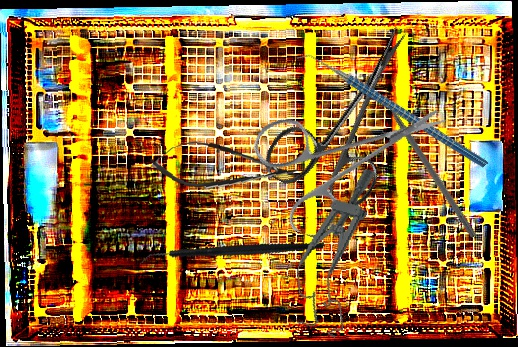Chopper: (292, 5, 489, 218), (139, 191, 325, 318), (377, 85, 485, 239)
Iris Scissors: (230, 53, 449, 268), (258, 1, 447, 223)
Micro Scissor: (149, 136, 300, 197)
Speculum: (282, 158, 387, 340)
